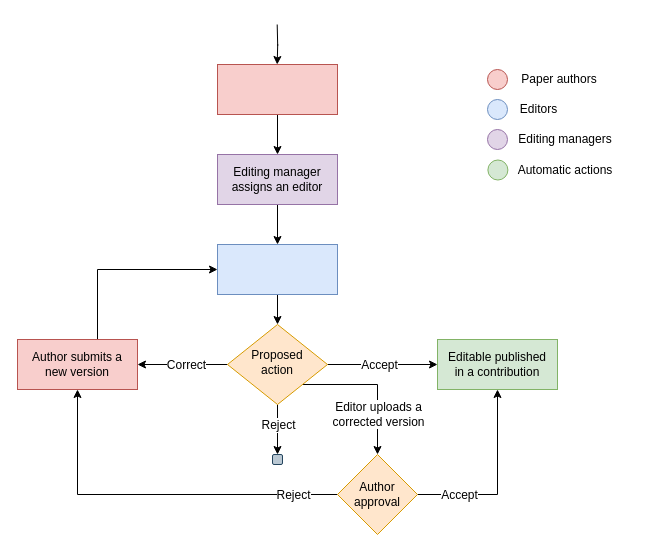
Some shapes in this 648 by 552 pixel diagram are drawn without their labels. Each missing label, with the centre of its shape:
Author submits an editable (paper, poster, slides): point (277, 89)
Editing process: point (277, 269)
